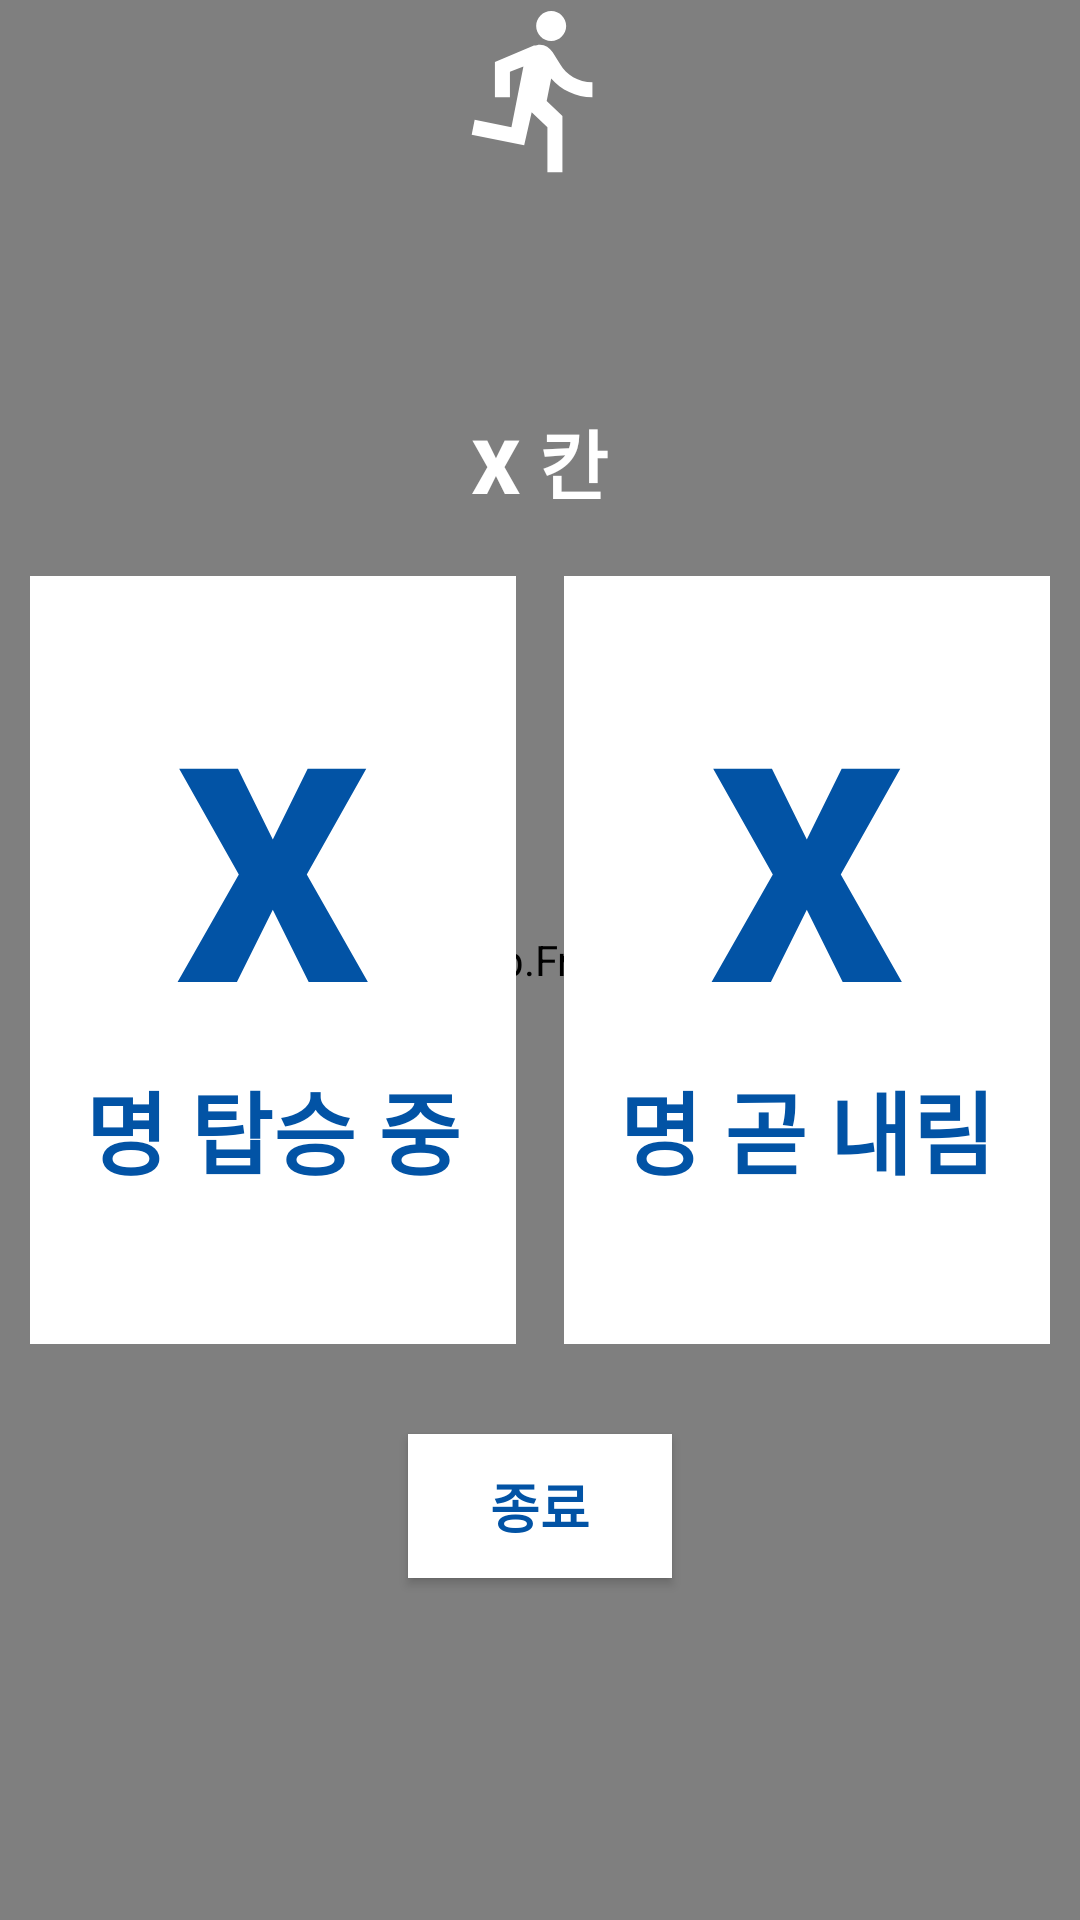

Icons on this 1080*1920 Android screen, each with its box as {"left": x1, "top": y1, "right": x2, "bottom": y2}:
directions run: {"left": 471, "top": 11, "right": 593, "bottom": 173}
